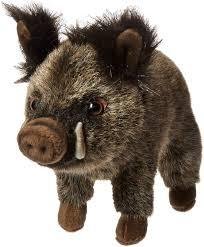wildboar: (4, 2, 203, 244)
